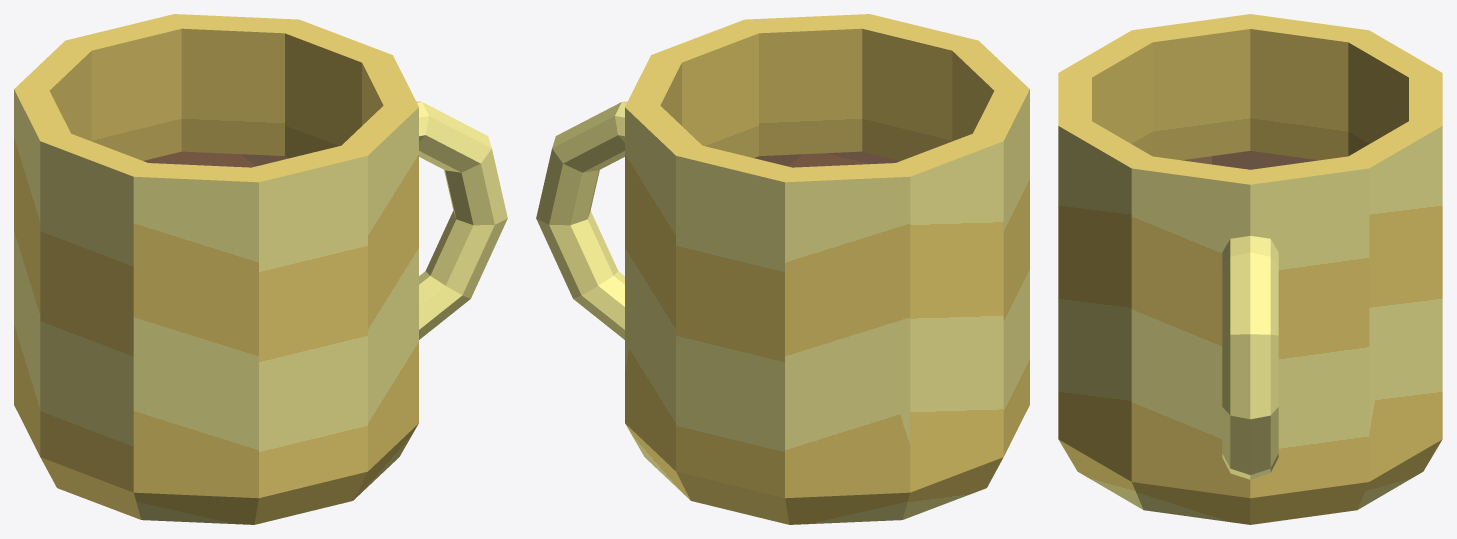
File: mug2.fbx
The picture shows the model from 3 angles, left to right: view 1: azimuth 30°, elevation 25°; view 2: azimuth 150°, elevation 25°; view 3: azimuth 270°, elevation 25°; orthographic projection.
Parts seen in each view (by area): view 1: cylinder, torus; view 2: cylinder, torus; view 3: cylinder, torus.
Boxes of the visible parts, left/top/right/bottom form: cylinder: left=14, top=14, right=418, bottom=524; torus: left=416, top=101, right=507, bottom=339; cylinder: left=625, top=14, right=1029, bottom=524; torus: left=536, top=101, right=627, bottom=339; cylinder: left=1058, top=14, right=1442, bottom=524; torus: left=1222, top=236, right=1278, bottom=479.
Size of the model in its own units: 4.22 by 3.05 by 3.05.
2 materials, 2 textured.
